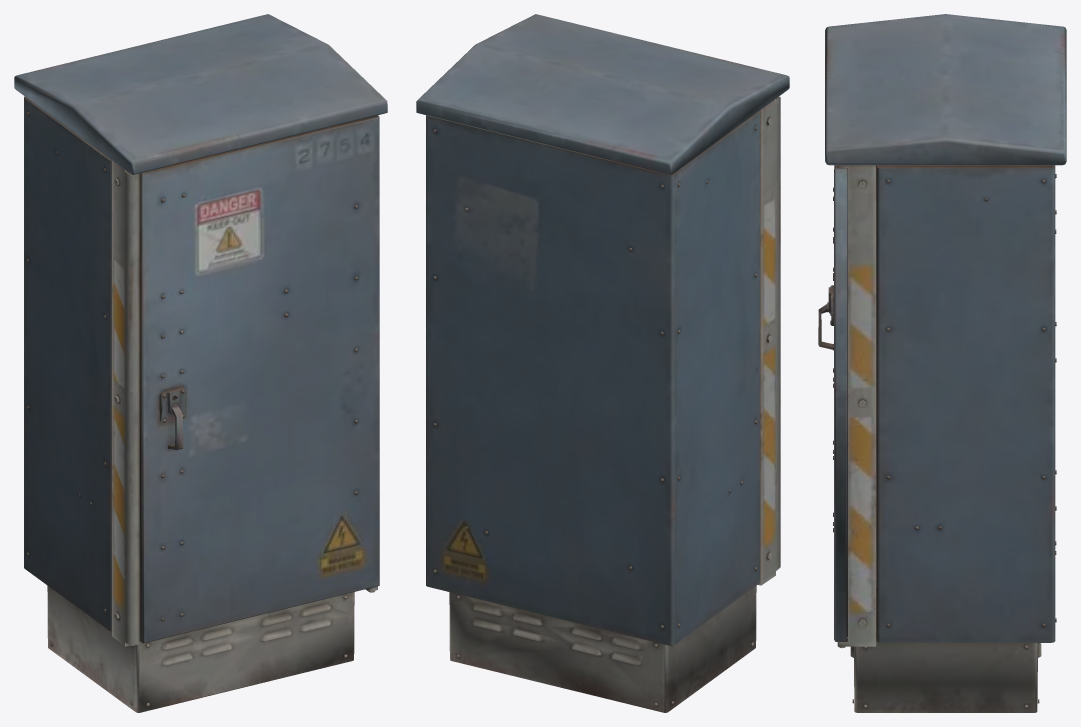
Rendered from utility_box_01.glb.
3 renders of one model, left to right at view 1: azimuth 30°, elevation 25°; view 2: azimuth 150°, elevation 25°; view 3: azimuth 270°, elevation 25°, orthographic.
Visible parts, largest first — view 1: utility_box_01_box; view 2: utility_box_01_box; view 3: utility_box_01_box.
Boxes of the visible parts, <box> form: utility_box_01_box: <box>14,14,387,712</box>; utility_box_01_box: <box>416,14,789,712</box>; utility_box_01_box: <box>818,14,1066,712</box>.
Bounding box in the file's own units: 0.52 × 1.12 × 0.4319.
Materials: 1 (1 with a texture image).
